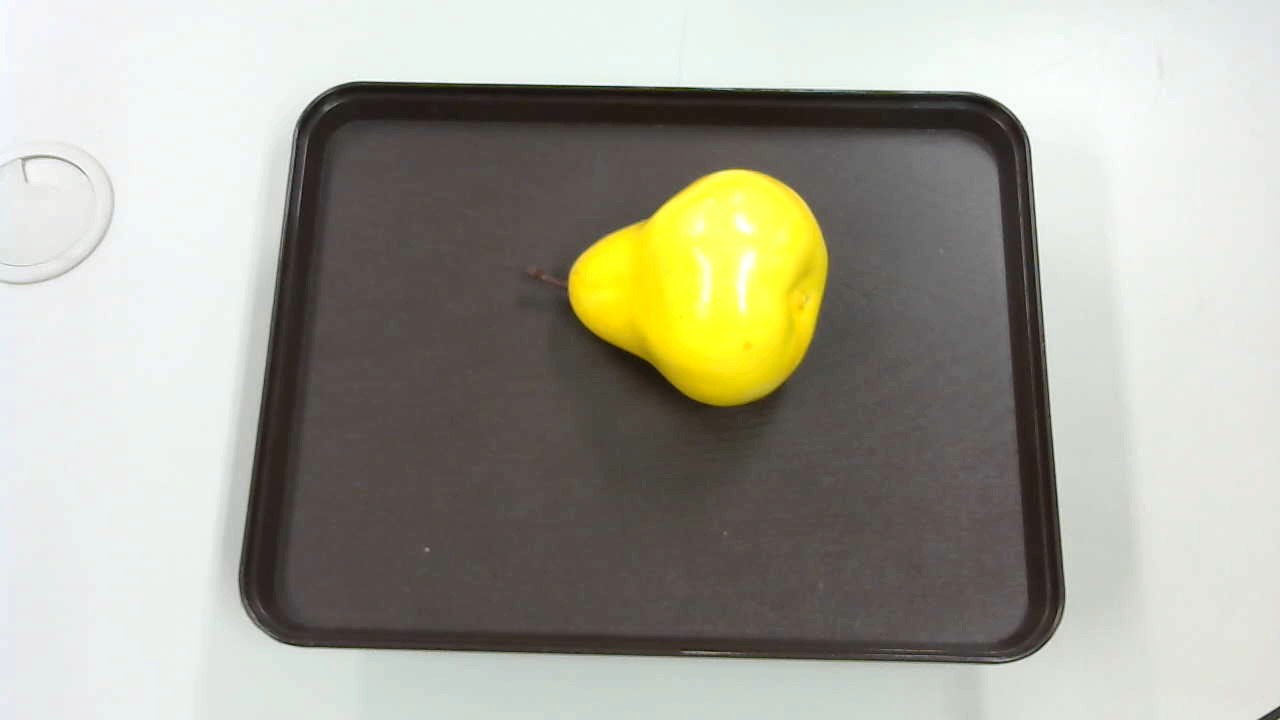yellow pear: (518, 166, 829, 422)
